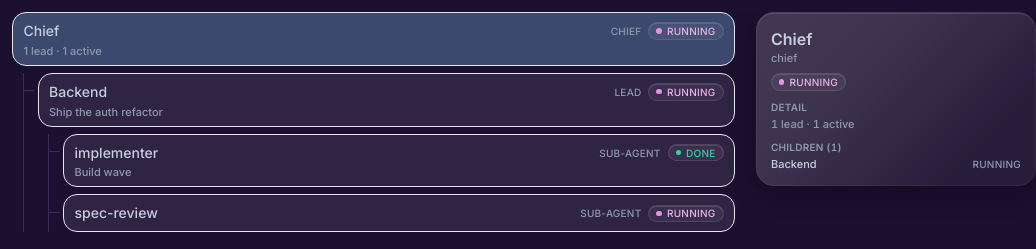
Test: DelegationTree › shows the selected node's children summary
The image size is (1036, 249).
Click the button with test id "delegation-tree-node-lead-backend" at (78, 91), box [38, 73, 735, 127]
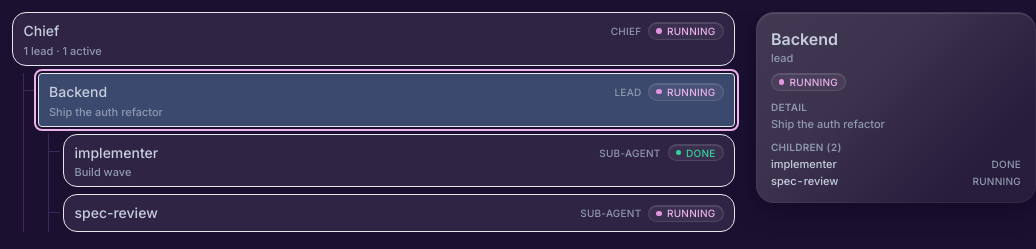
Result: the element with test id "delegation-node-detail" shows "Children (2)" at [771, 27, 1021, 188]
Result: the element with test id "delegation-node-detail" shows "implementer" at [771, 157, 837, 171]
Result: the element with test id "delegation-node-detail" shows "spec-review" at [771, 174, 838, 188]
